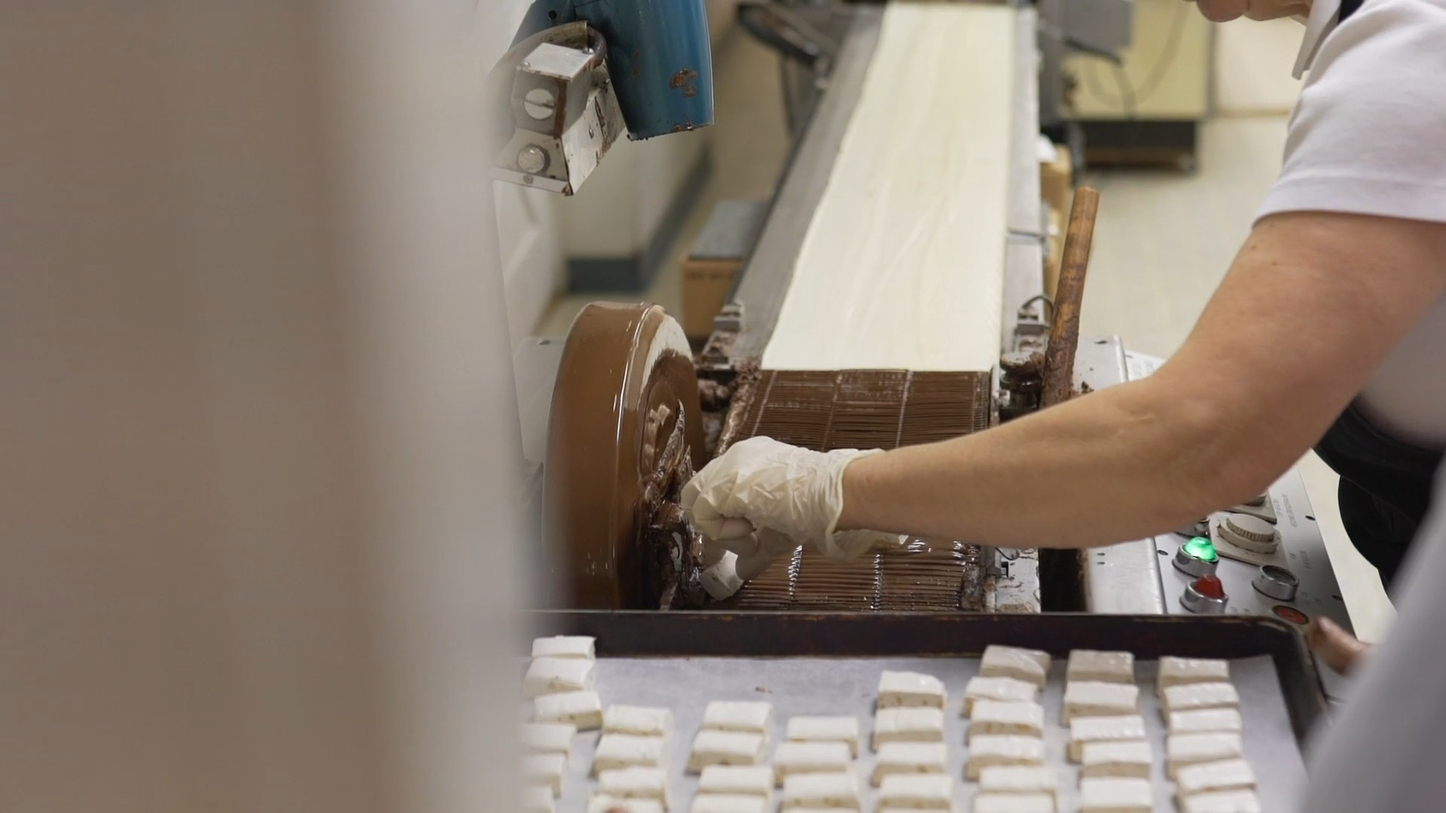gloves: (660, 425, 909, 565)
